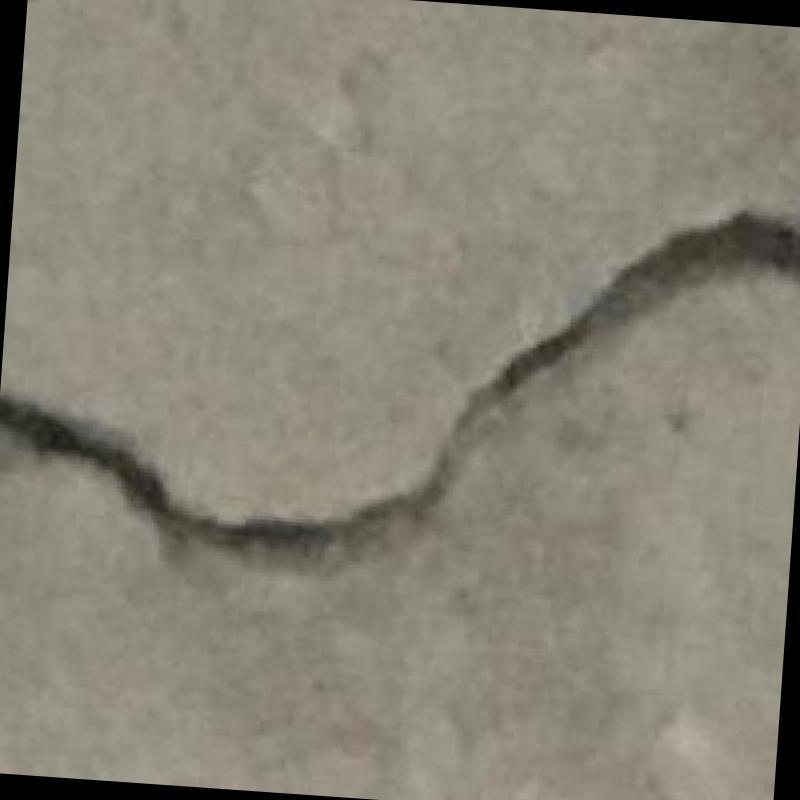pothole: (0, 210, 800, 554)
